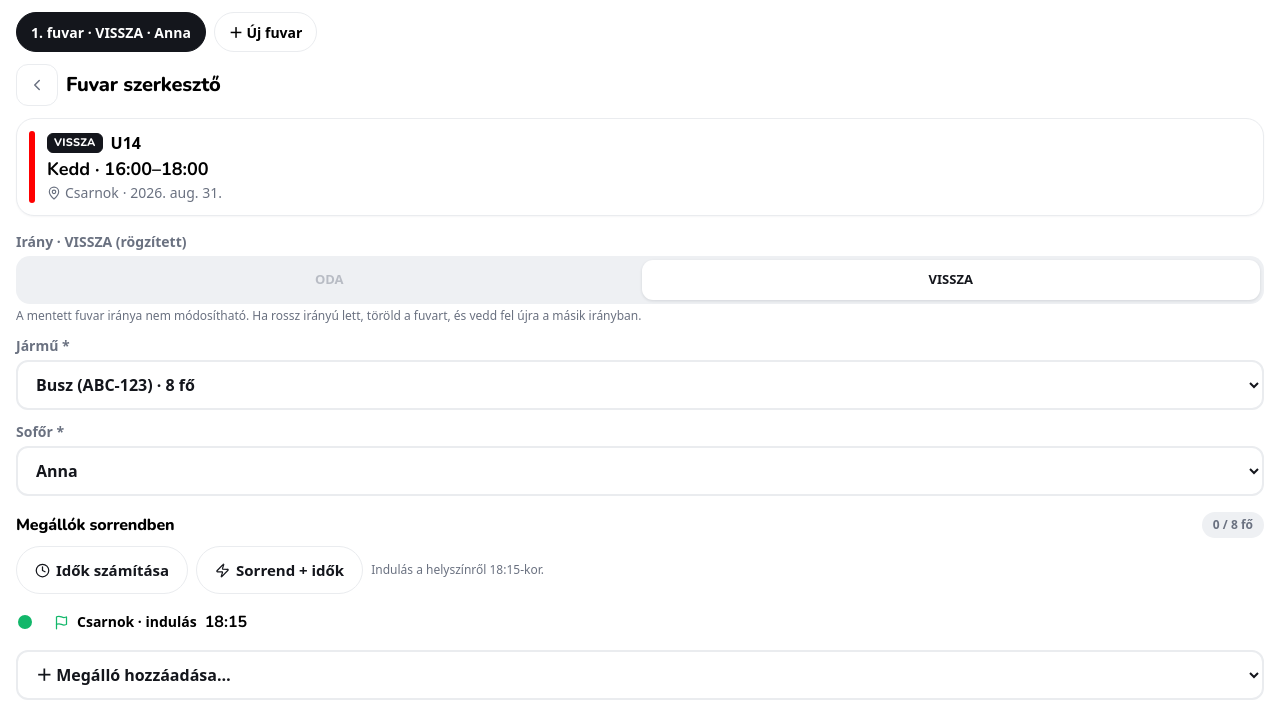
it: a mentett fuvar iránya rögzített › új fuvarnál az irány szabadon választható
Click the button with class "chip" showing "＋ Új fuvar".
click(266, 32)  # box x1=214 y1=12 x2=317 y2=52
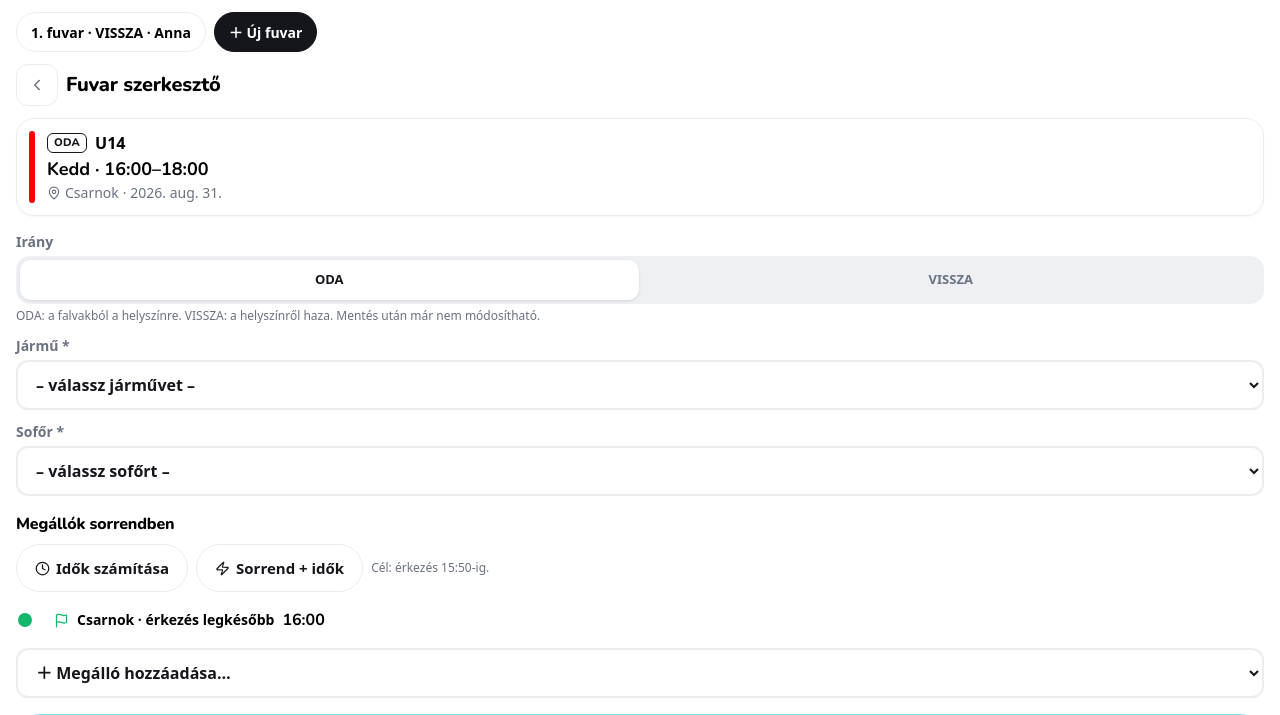
Expected: the button "ODA" is enabled, x1=20 y1=260 x2=638 y2=300
Expected: the button "VISSZA" is enabled
Expected: the text with class "dirpill" reads "ODA", x1=54 y1=135 x2=80 y2=150
Click the button "VISSZA".
click(951, 280)  # box x1=642 y1=260 x2=1260 y2=300
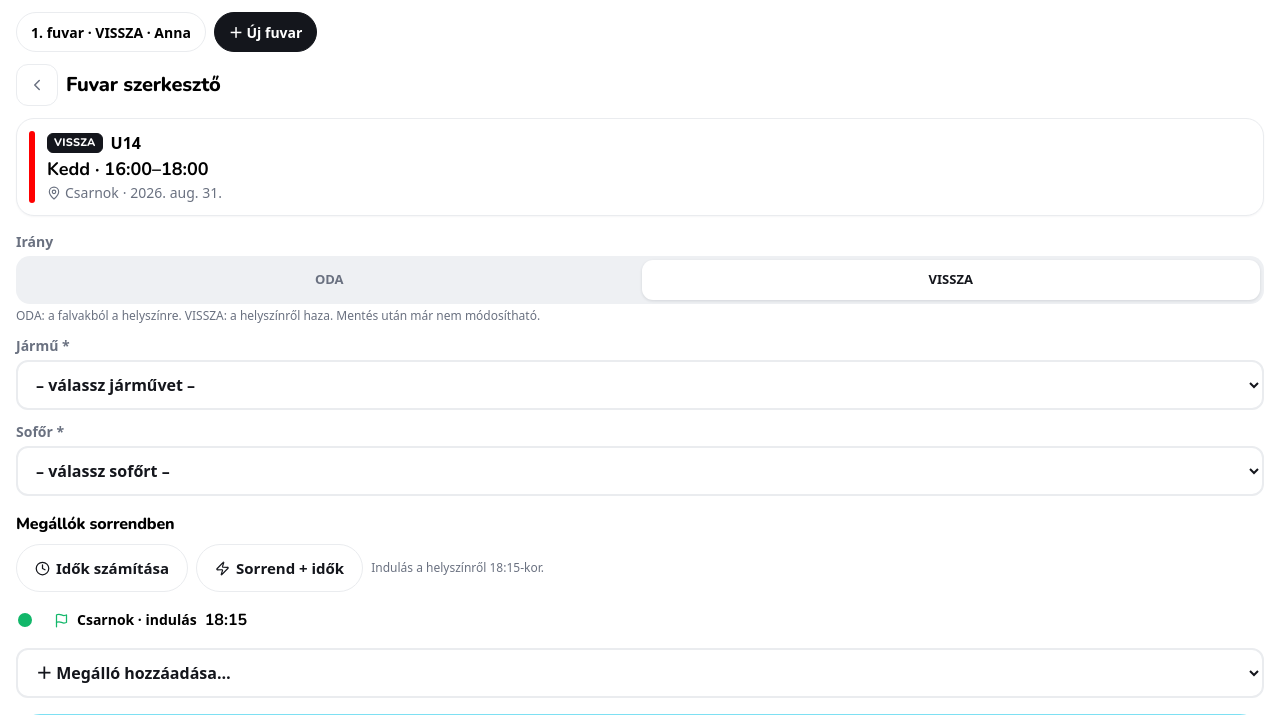
Expected: the text with class "dirpill" reads "VISSZA", x1=54 y1=135 x2=96 y2=150
